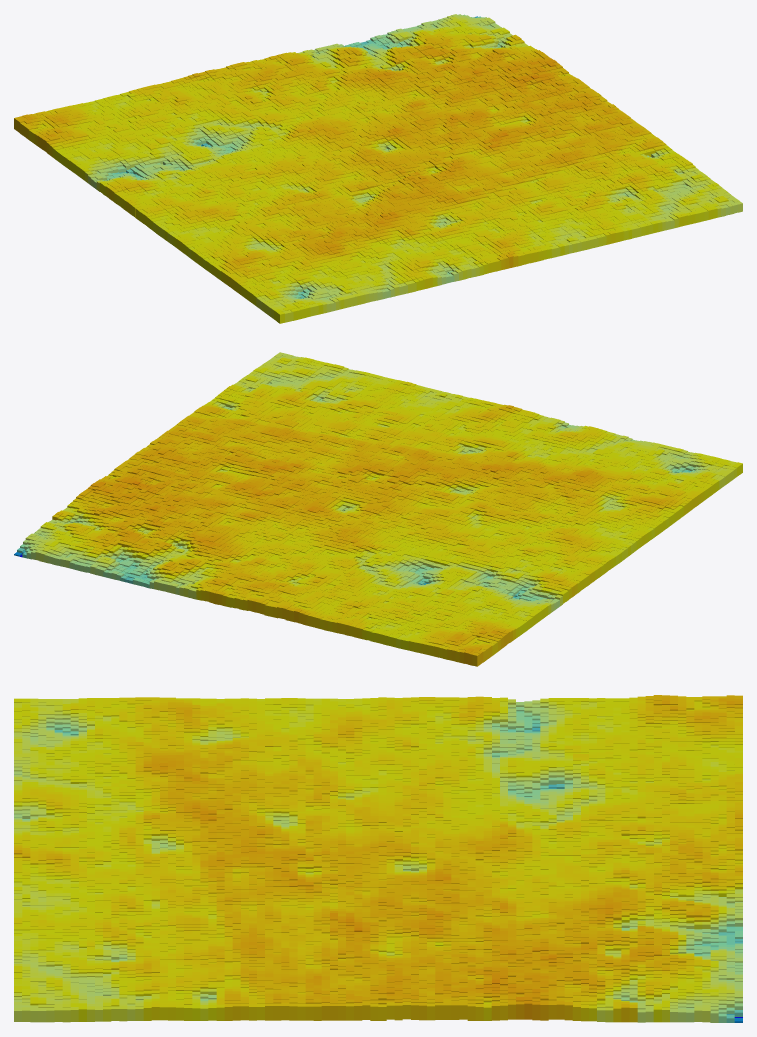
The model's file is population.glb.
The picture shows the model from 3 angles, top to bottom: view 1: azimuth 30°, elevation 25°; view 2: azimuth 150°, elevation 25°; view 3: azimuth 270°, elevation 25°; orthographic projection. The views are drawn at different scales.
Parts seen in each view (by area): view 1: population; view 2: population; view 3: population.
Part boxes in pixels (x1,y1,x2,y2): population: [14, 14, 742, 323]; population: [14, 352, 742, 666]; population: [14, 695, 742, 1022].
Size of the model in its own units: 9031 by 272 by 8971.
